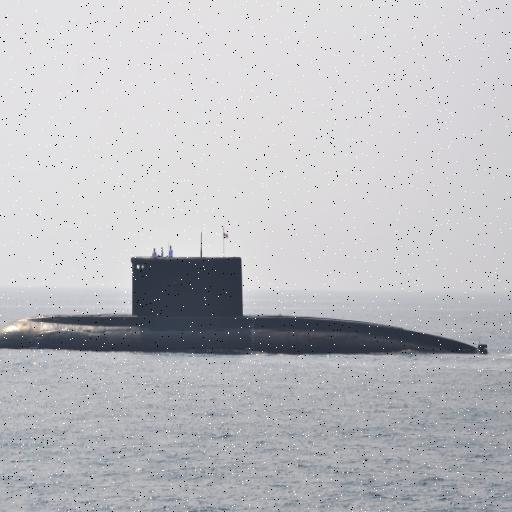submarine: (1, 247, 512, 352)
